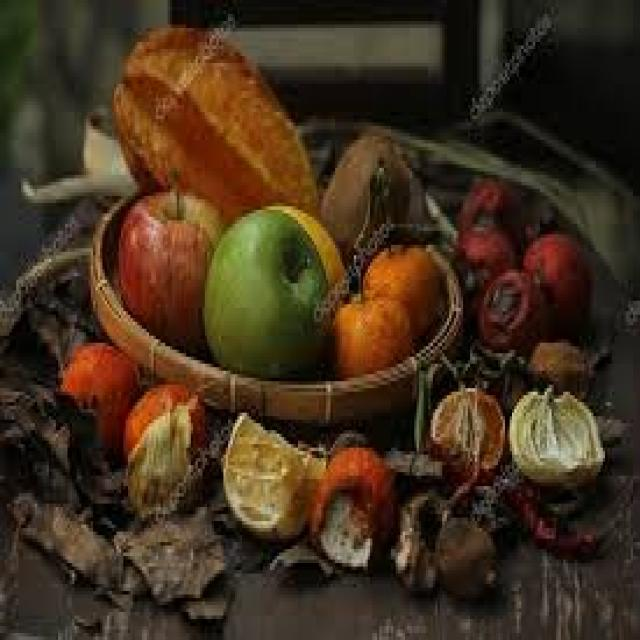food_waste: (112, 24, 598, 595), (454, 178, 589, 378), (61, 339, 207, 514)
